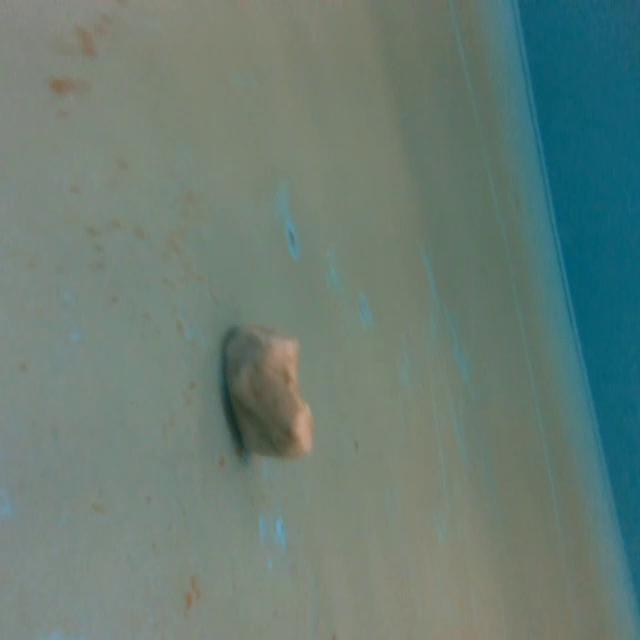rock: (220, 321, 320, 465)
